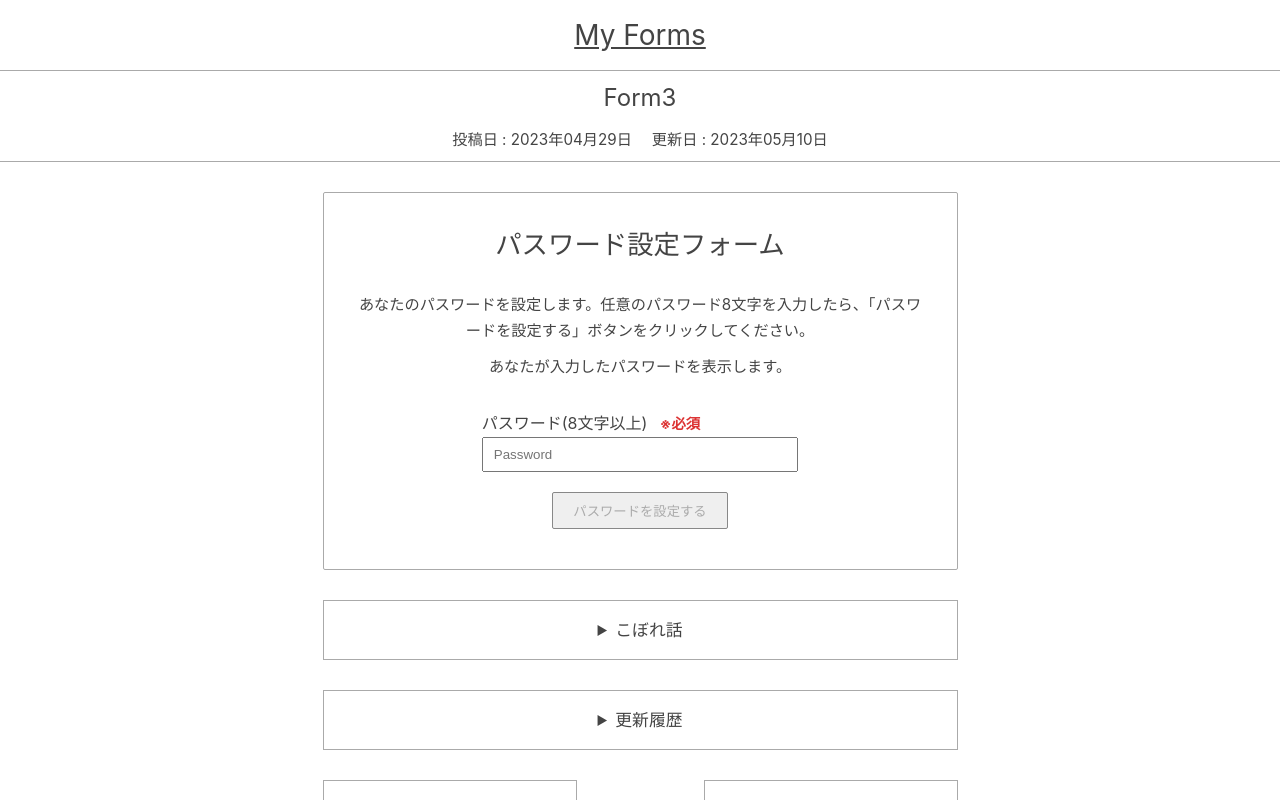
Test: Form3 › フォームを送信した時、正しい結果が得られること › フォームを送信した時, 入力したパスワードが表示されること
The width and height of the screenshot is (1280, 800).
Type "Hello World" into the password field with placeholder "Password" at (640, 454), box [482,436,798,472]
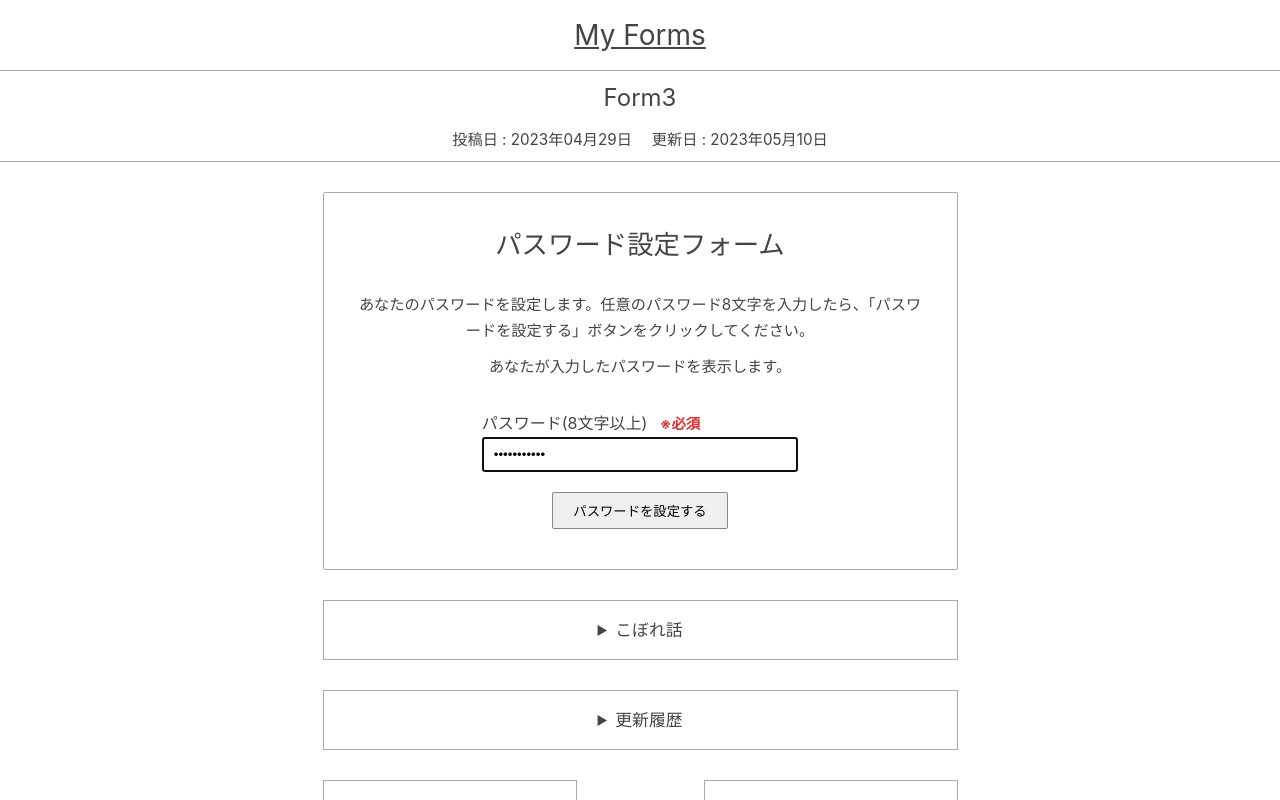
Click the button "パスワードを設定する" at (640, 510), box [552,492,728,528]
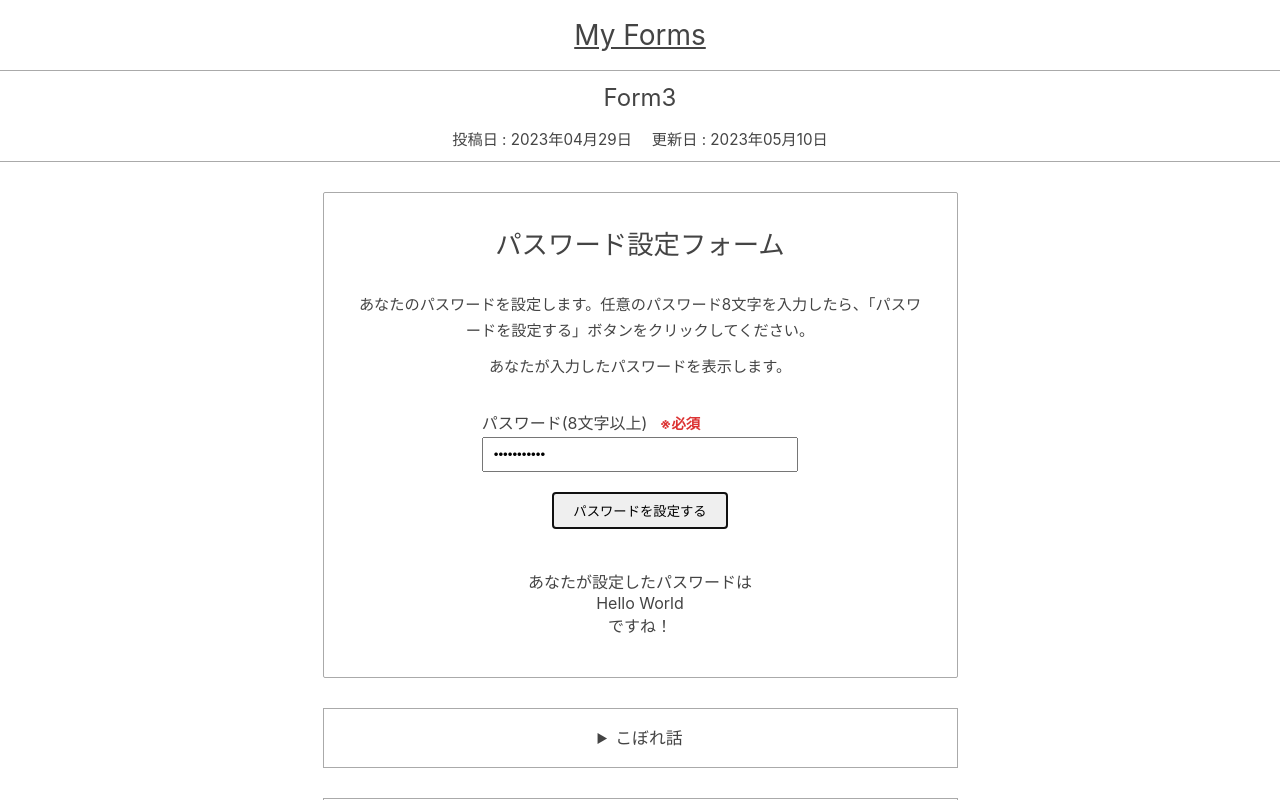
Expected: the element with test id "result-area" shows "Hello World", [596,592,684,612]
